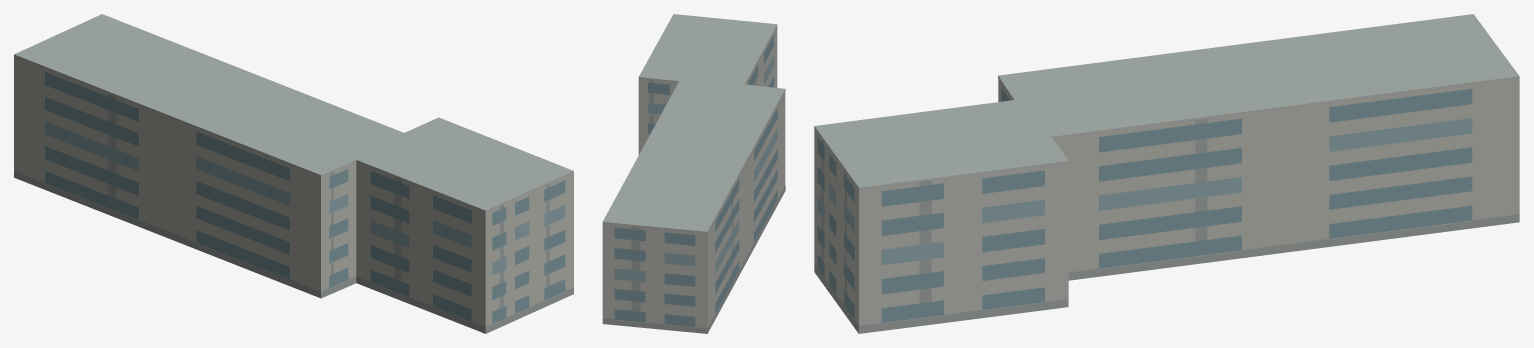
Rendered from survey-upis-32592488.glb.
The picture shows the model from 3 angles, left to right: view 1: azimuth 30°, elevation 25°; view 2: azimuth 150°, elevation 25°; view 3: azimuth 270°, elevation 25°; orthographic projection. The views are drawn at different scales.
Parts seen in each view (by area): view 1: survey-upis-32592488.tmp; view 2: survey-upis-32592488.tmp; view 3: survey-upis-32592488.tmp.
Part boxes in pixels (<box>): survey-upis-32592488.tmp: <box>14,14,573,333</box>; survey-upis-32592488.tmp: <box>602,14,785,333</box>; survey-upis-32592488.tmp: <box>814,14,1519,333</box>.
Size of the model in its own units: 38.89 by 15.25 by 66.68.
